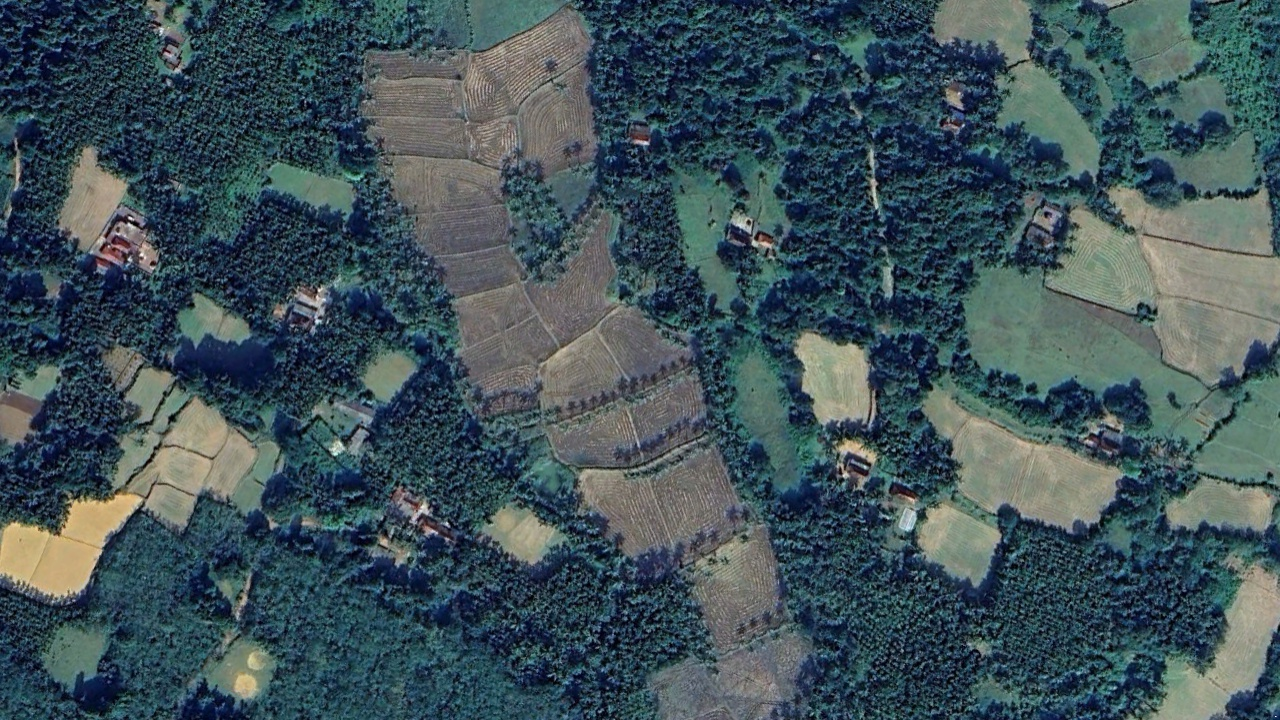arecanut: (38, 1, 377, 188), (838, 528, 1123, 703), (466, 548, 695, 715), (1004, 510, 1125, 709), (374, 389, 532, 531), (203, 196, 351, 328), (3, 590, 68, 664)
